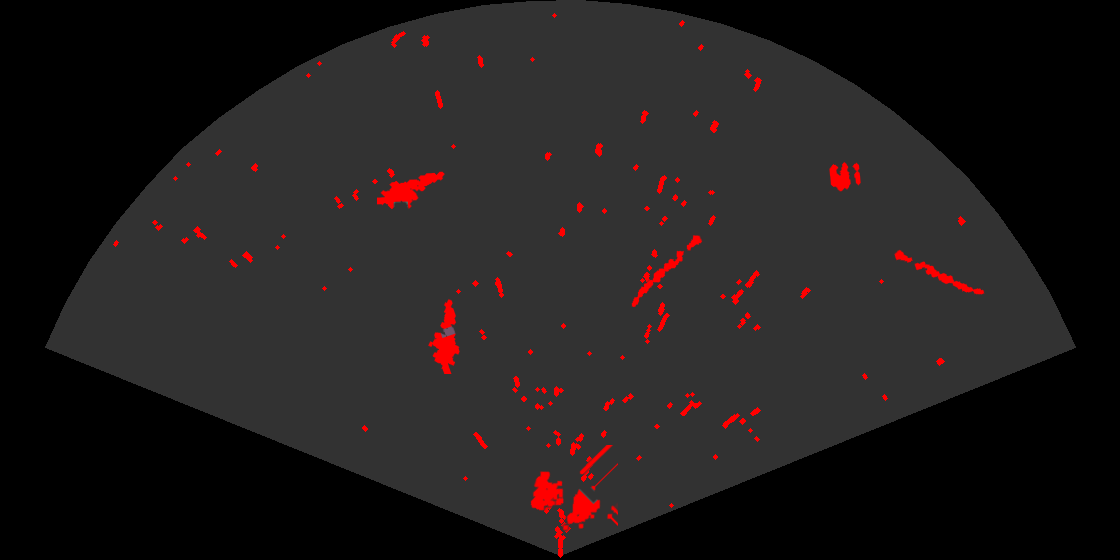ball: (828, 160, 862, 193)
cage: (529, 445, 618, 532)
chain: (630, 234, 704, 309), (893, 248, 986, 296)
frogman: (377, 170, 446, 211), (427, 298, 461, 374)
